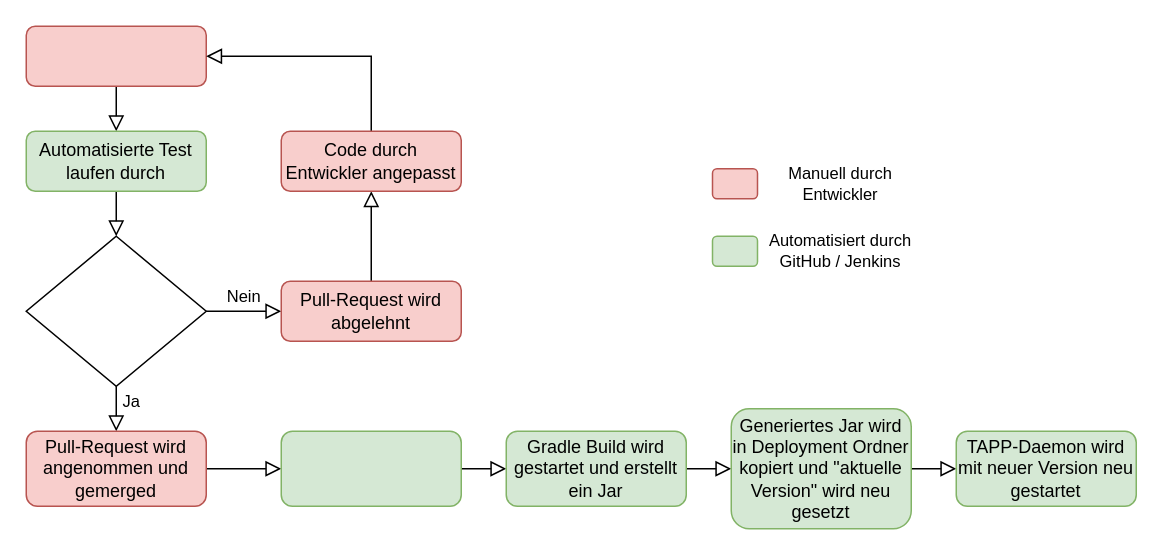
The diagram is 1163 pixels wide and 555 high, and some of its shapes have lost their labels. Here are the shapes that lost their labels. From the top down, the centre of each, then its label:
the point at 115,55: Pull-Request auf "dev"-branch erstellt
the point at 115,310: Tests und Code ohne Fehler?
the point at 370,468: Build-Trigger in Jenkins wird ausgelöst
